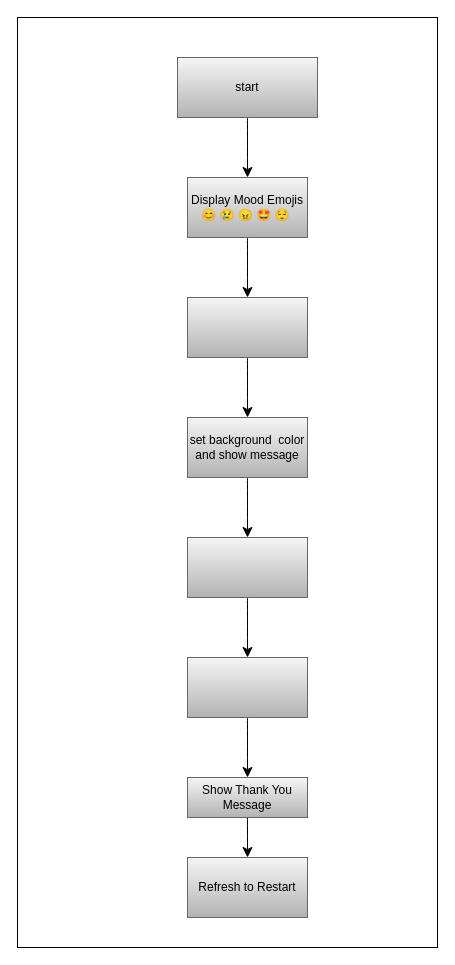
Some shapes in this 455 by 965 pixel diagram are drawn without their labels. The shapes that lost their labels are listed below. From the top down, each one's centre as x and y in pixels, then its label:
pixel 247 327: User Clicks on a Mood
pixel 247 567: show Feedback options 👍 👎 ⭐
pixel 247 687: User Clicks a Feedback Icon
